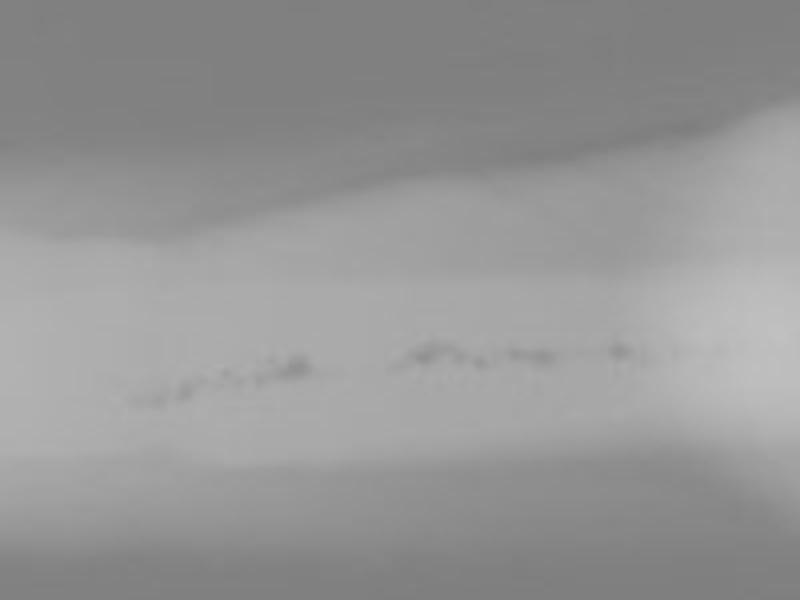defect: (399, 343, 444, 367), (278, 356, 313, 384), (132, 386, 167, 412), (251, 367, 280, 394), (524, 345, 552, 372), (437, 339, 465, 365), (175, 376, 203, 401), (608, 338, 632, 362), (634, 347, 657, 369), (506, 346, 526, 366), (470, 358, 492, 372), (231, 375, 244, 393), (215, 365, 230, 376)
